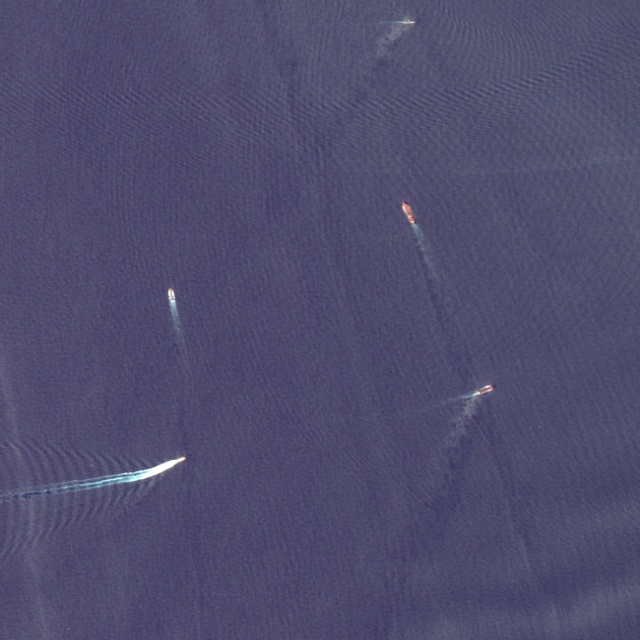wake: (12, 418, 204, 545)
